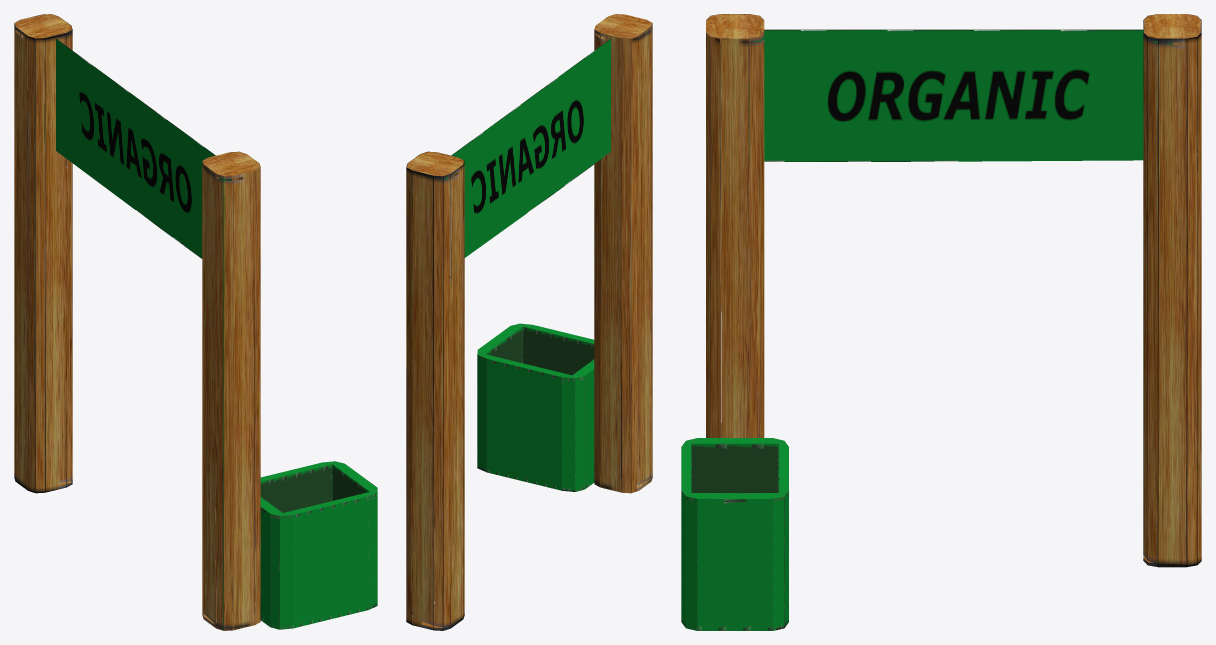
Rendered from PORTAL ORGANIK.fbx.
3 views of the same model, side by side, from view 1: azimuth 30°, elevation 25°; view 2: azimuth 150°, elevation 25°; view 3: azimuth 270°, elevation 25° (orthographic). The views are drawn at different scales.
Parts seen in each view (by area): view 1: Cube.004; view 2: Cube.004; view 3: Cube.004.
Part boxes in pixels (left/top/right/bottom): Cube.004: left=14, top=14, right=377, bottom=630; Cube.004: left=406, top=14, right=652, bottom=630; Cube.004: left=681, top=14, right=1201, bottom=630.
Bounding box in the file's own units: 139 × 402 × 357.
Materials: 3 (3 with a texture image).
